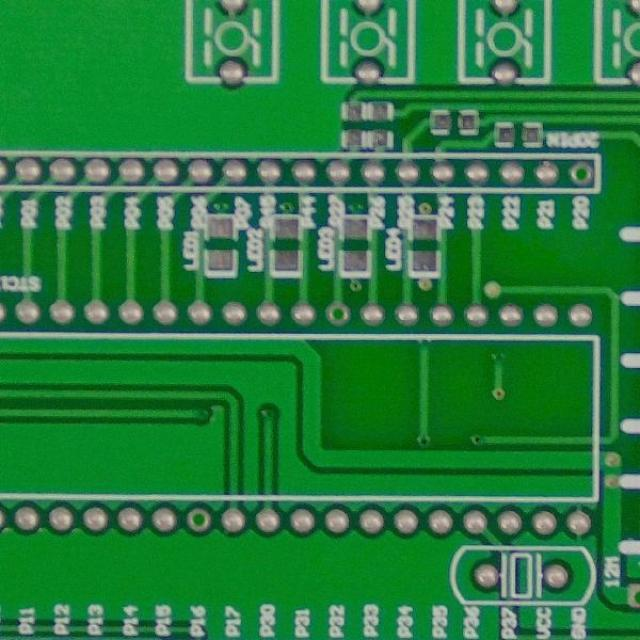Missing_Hole: (182, 506, 215, 536), (323, 303, 352, 329), (568, 161, 594, 188), (623, 582, 640, 612)
